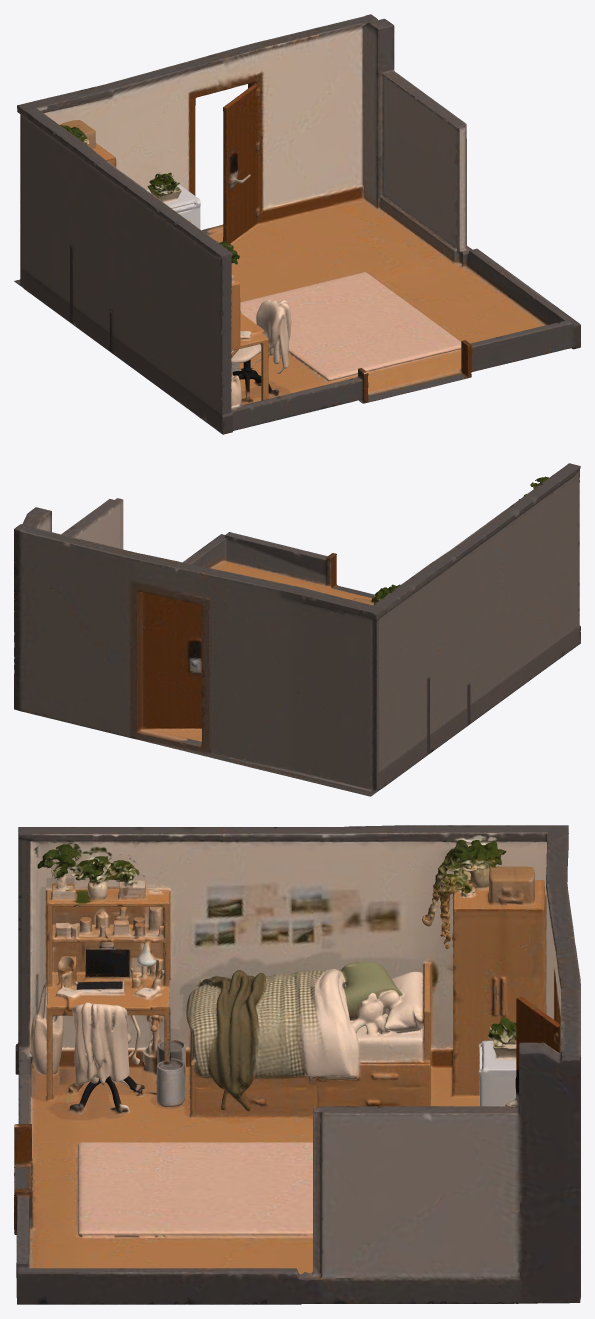
Rendered from room.glb.
3 renders of one model, top to bottom at view 1: azimuth 30°, elevation 25°; view 2: azimuth 150°, elevation 25°; view 3: azimuth 270°, elevation 25°, orthographic. The views are drawn at different scales.
Bounding box in the file's own units: 1.88 × 0.9498 × 1.9.
1 material, 1 textured.
